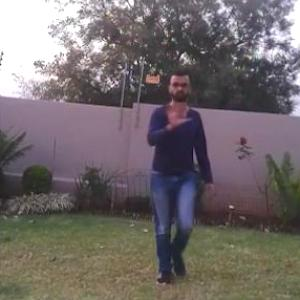follow_hand: (163, 98, 194, 129)
